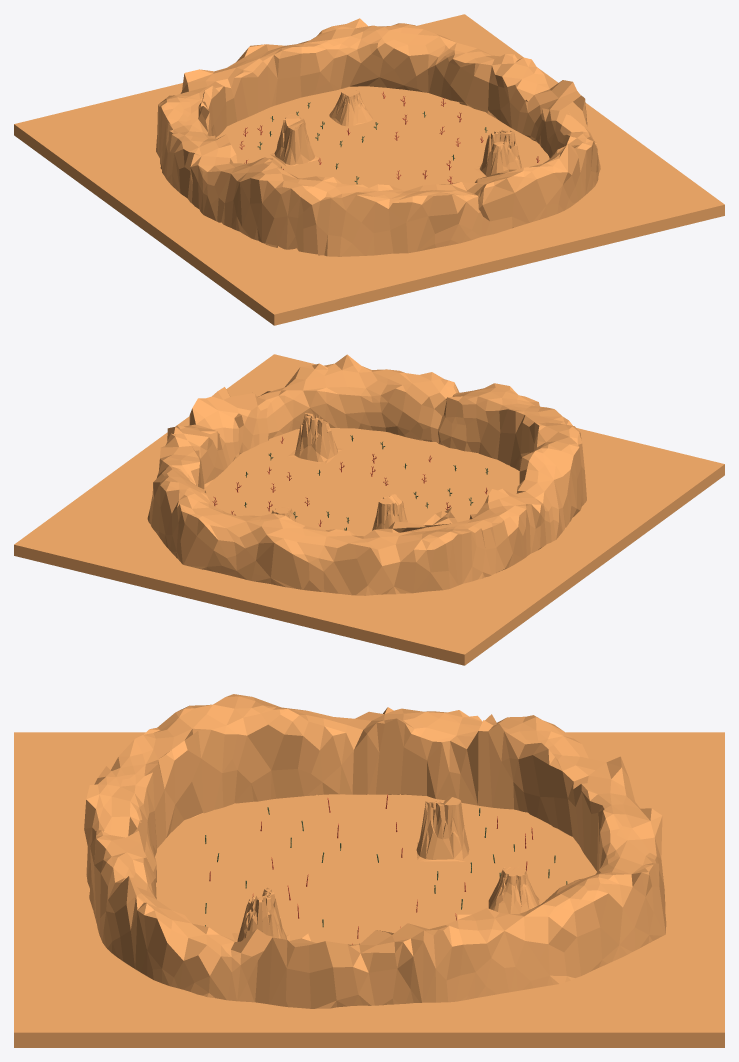
Rendered from MountainErena.fbx.
The picture shows the model from 3 angles, top to bottom: view 1: azimuth 30°, elevation 25°; view 2: azimuth 150°, elevation 25°; view 3: azimuth 270°, elevation 25°; orthographic projection. The views are drawn at different scales.
Visible parts, largest first — view 1: Plane, Landscape.001, Landscape.003, Landscape.004, Landscape.010; view 2: Plane, Landscape.001, Landscape.004, Landscape.003; view 3: Plane, Landscape.001, Landscape.003, Landscape.010, Landscape.004.
Part boxes in pixels (x1,y1,x2,y2): Plane: [14, 14, 724, 325]; Landscape.001: [156, 18, 600, 256]; Landscape.003: [270, 114, 318, 166]; Landscape.004: [474, 129, 522, 176]; Landscape.010: [329, 88, 372, 126]; Plane: [14, 354, 724, 665]; Landscape.001: [147, 354, 586, 595]; Landscape.004: [288, 413, 342, 463]; Landscape.003: [372, 494, 407, 530]; Plane: [14, 732, 724, 1047]; Landscape.001: [84, 694, 666, 1008]; Landscape.003: [416, 796, 469, 861]; Landscape.010: [488, 866, 540, 913]; Landscape.004: [232, 887, 289, 941].
Bounding box in the file's own units: 40000 × 6213 × 40000.
